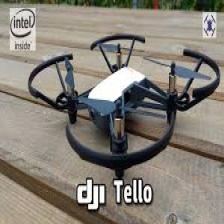drone: (28, 38, 220, 158)
